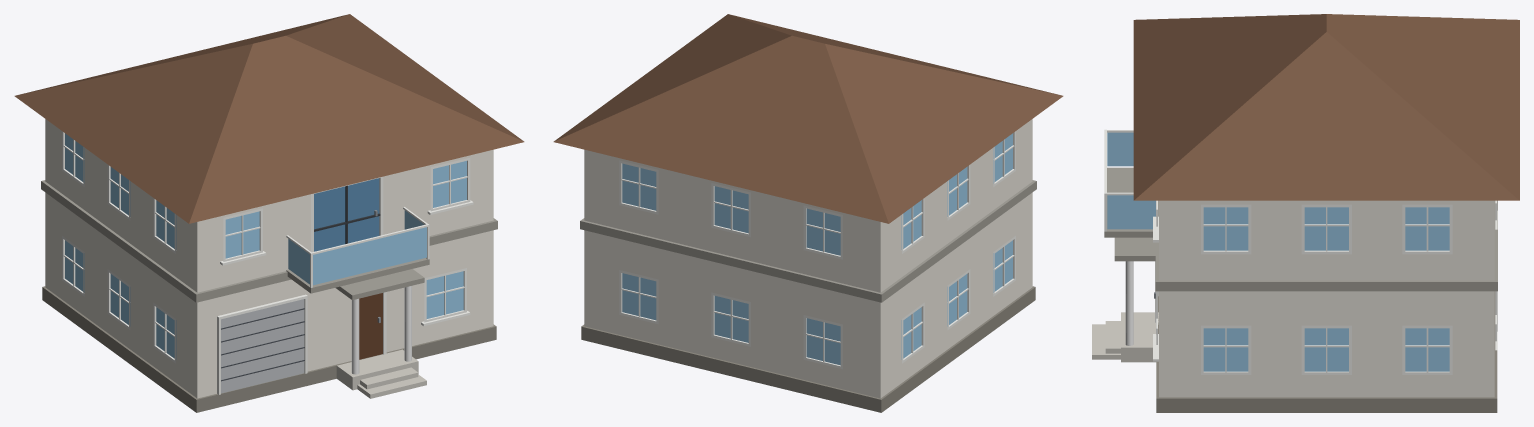
The model's file is casa-sobrado.glb.
3 renders of one model, left to right at view 1: azimuth 30°, elevation 25°; view 2: azimuth 150°, elevation 25°; view 3: azimuth 270°, elevation 25°, orthographic. The views are drawn at different scales.
Parts seen in each view (by area): view 1: Telhado, Paredes, Vidro, Molduras, Portas, Detalhes, VidroLuz; view 2: Paredes, Telhado, Molduras, Vidro, VidroLuz; view 3: Telhado, Paredes, Molduras, VidroLuz, Vidro, Detalhes.
Part boxes in pixels (box(x1,y1,x2,y2)): Telhado: box(14, 14, 524, 223); Paredes: box(42, 119, 496, 412); Vidro: box(65, 133, 466, 326); Molduras: box(41, 131, 497, 394); Portas: box(221, 293, 382, 393); Detalhes: box(335, 210, 426, 398); VidroLuz: box(110, 167, 176, 359); Paredes: box(581, 119, 1035, 412); Telhado: box(553, 14, 1063, 223); Molduras: box(580, 131, 1036, 369); Vidro: box(622, 200, 967, 365); VidroLuz: box(622, 133, 1012, 292); Telhado: box(1133, 14, 1519, 200); Paredes: box(1104, 167, 1497, 412); Molduras: box(1104, 129, 1497, 374); VidroLuz: box(1203, 207, 1348, 371); Vidro: box(1107, 132, 1449, 371); Detalhes: box(1092, 237, 1158, 362).
Size of the model in its own units: 10.2 by 8.13 by 10.19.
